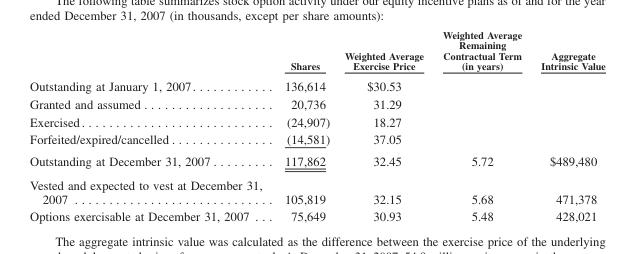table: (29, 28, 604, 222)
table column: (29, 28, 272, 222), (432, 28, 530, 222), (336, 28, 432, 222), (530, 28, 604, 222), (272, 28, 336, 222)
table column header: (29, 28, 604, 74)
table row: (29, 28, 604, 74), (29, 172, 604, 207), (29, 149, 604, 172), (29, 74, 604, 94), (29, 130, 604, 149), (29, 94, 604, 112), (29, 112, 604, 130), (29, 207, 604, 222)
